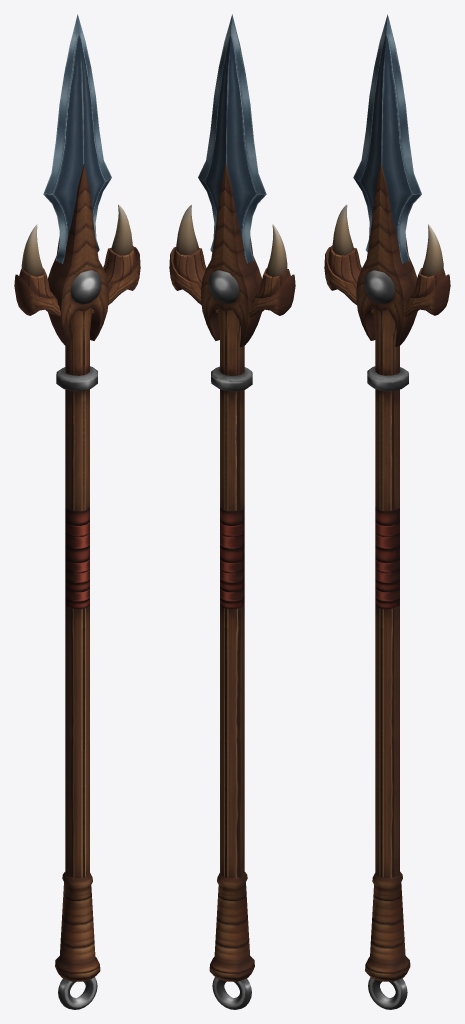
The model's file is SM_Spear.fbx.
3 views of the same model, side by side, from view 1: azimuth 30°, elevation 25°; view 2: azimuth 150°, elevation 25°; view 3: azimuth 330°, elevation 25° (orthographic).
Visible parts, largest first — view 1: Spear; view 2: Spear; view 3: Spear.
Boxes of the visible parts, x1,y1,x2,y2 form: Spear: [14, 14, 140, 1009]; Spear: [169, 14, 295, 1009]; Spear: [324, 14, 450, 1009].
Bounding box in the file's own units: 0.163 × 1.3 × 0.0537.
